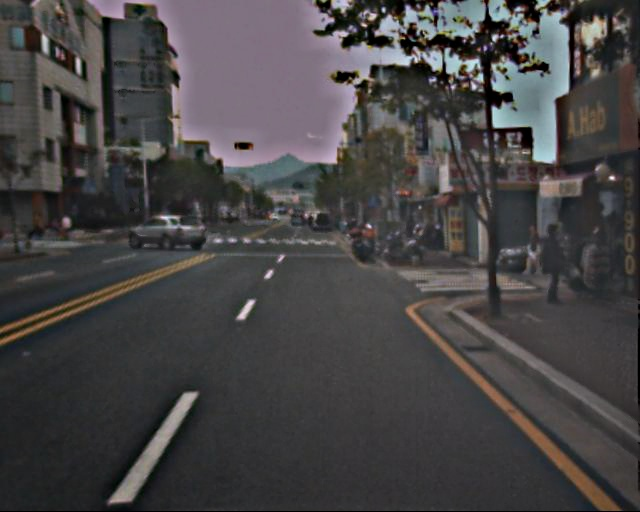person: (533, 224, 569, 304), (522, 222, 545, 276)
